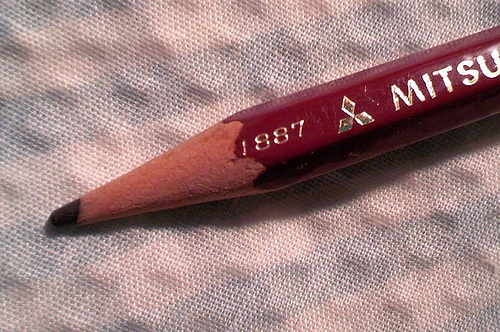pen_tip: (43, 110, 283, 241)
